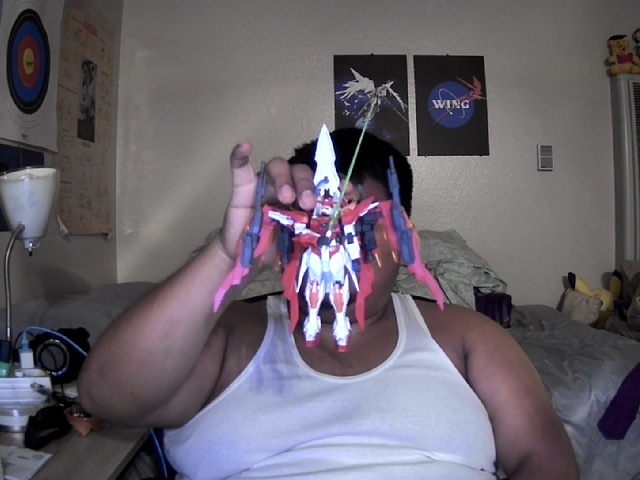Honoo: (213, 121, 445, 354)
